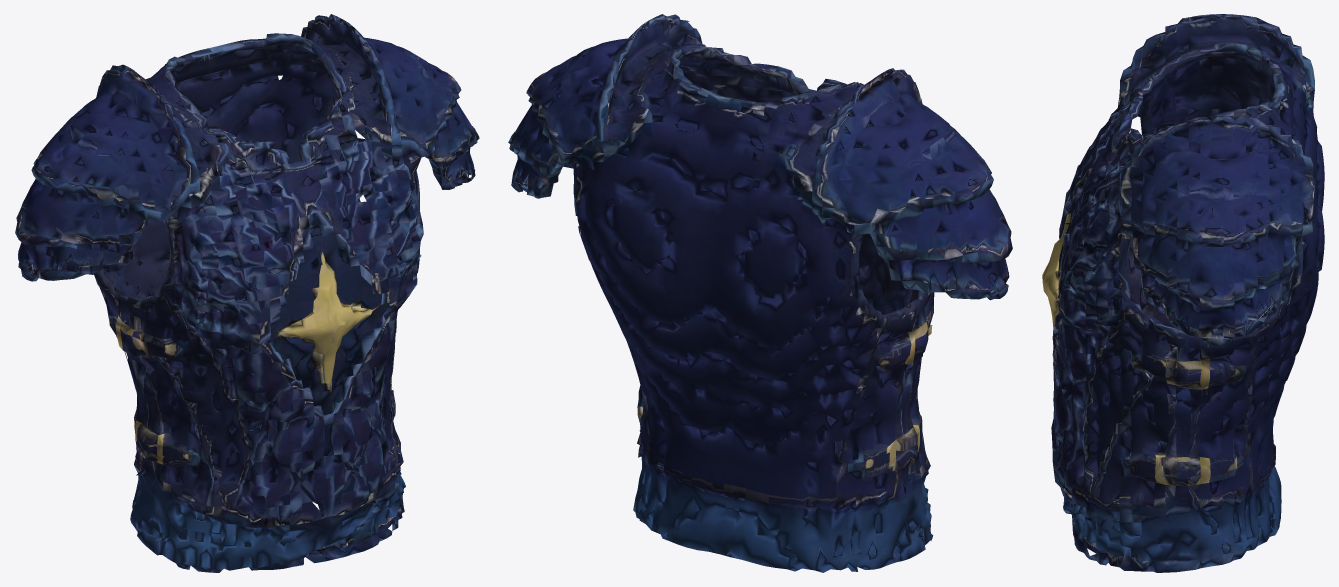
The model's file is zirh_ejderderi.glb.
3 views of the same model, side by side, from view 1: azimuth 30°, elevation 25°; view 2: azimuth 150°, elevation 25°; view 3: azimuth 270°, elevation 25° (orthographic). The views are drawn at different scales.
Parts seen in each view (by area): view 1: s2_sara_0.022; view 2: s2_sara_0.022; view 3: s2_sara_0.022.
Boxes of the visible parts, box(x1,y1,x2,y2) form: s2_sara_0.022: box(15, 14, 479, 572); s2_sara_0.022: box(508, 14, 1012, 572); s2_sara_0.022: box(1042, 14, 1324, 572).
Bounding box in the file's own units: 1.65 × 1.61 × 0.8991.
1 material, 1 textured.
